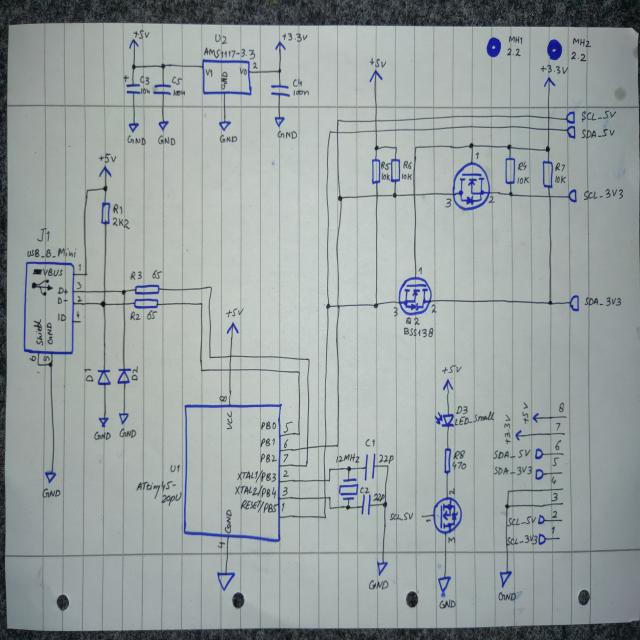capacitor: (123, 74, 141, 95), (363, 452, 376, 481), (270, 83, 291, 98), (361, 493, 372, 516), (153, 84, 172, 95)
crossover: (227, 352, 234, 361), (228, 366, 235, 374), (121, 301, 128, 308), (546, 113, 552, 121), (335, 302, 341, 310), (412, 191, 418, 199), (374, 192, 380, 200), (102, 288, 108, 295), (373, 118, 379, 124), (373, 128, 379, 134), (322, 443, 328, 449), (546, 126, 551, 133), (305, 445, 310, 451), (322, 478, 327, 483), (336, 130, 340, 136), (323, 494, 327, 500), (548, 194, 552, 200)
diode: (434, 410, 454, 428), (96, 368, 112, 386), (117, 367, 132, 385)
ground: (216, 570, 236, 592), (437, 574, 451, 596), (499, 569, 513, 588), (376, 560, 388, 576), (118, 412, 129, 426), (219, 120, 231, 132), (158, 120, 170, 132), (98, 416, 110, 428), (274, 116, 285, 128), (128, 122, 140, 133)
junction: (99, 300, 107, 310), (544, 144, 552, 154), (101, 183, 109, 193), (372, 143, 380, 152), (506, 142, 513, 152), (344, 503, 352, 511), (468, 141, 475, 150), (392, 190, 398, 200), (373, 300, 379, 310), (160, 61, 166, 70), (337, 194, 343, 203), (325, 302, 331, 311), (508, 189, 514, 198), (413, 143, 419, 152), (393, 143, 399, 152), (83, 270, 89, 279), (130, 62, 136, 70), (547, 298, 553, 306), (121, 288, 127, 296), (199, 366, 205, 374), (303, 461, 309, 469), (207, 354, 213, 362), (84, 187, 90, 194), (334, 442, 340, 449), (382, 501, 388, 508), (48, 361, 54, 368), (296, 368, 301, 376), (208, 284, 213, 292), (199, 300, 204, 308), (346, 466, 352, 472), (306, 356, 311, 363), (504, 502, 509, 509), (336, 118, 341, 124), (328, 130, 333, 136), (506, 488, 511, 494), (297, 431, 302, 436), (323, 514, 327, 520), (278, 68, 282, 74), (36, 362, 40, 368), (328, 495, 332, 500), (327, 478, 331, 483), (328, 467, 332, 472), (328, 506, 332, 510), (386, 464, 390, 468)
resistor: (504, 156, 516, 185), (542, 160, 554, 189), (134, 283, 160, 296), (371, 158, 382, 185), (133, 298, 159, 309), (390, 158, 401, 183), (100, 200, 110, 226), (444, 447, 452, 474)
source: (43, 470, 58, 484), (99, 164, 112, 180), (369, 69, 383, 83), (226, 321, 239, 335), (542, 76, 556, 88), (442, 378, 454, 391), (128, 37, 138, 51), (275, 40, 286, 51), (531, 411, 539, 424)
terminal: (569, 294, 580, 312), (567, 188, 578, 203), (534, 468, 545, 481), (566, 111, 576, 124), (567, 125, 576, 139), (534, 448, 543, 460), (514, 429, 522, 441), (538, 533, 546, 545), (537, 514, 545, 525), (560, 470, 564, 475), (560, 518, 564, 522), (561, 486, 564, 491), (562, 452, 565, 456), (563, 432, 566, 436), (565, 415, 568, 419), (558, 536, 560, 540), (562, 501, 564, 505)
text: (135, 478, 178, 499), (232, 482, 280, 500), (203, 46, 256, 60), (235, 468, 279, 483), (454, 410, 495, 426), (27, 246, 76, 259), (582, 187, 624, 201), (240, 499, 278, 514), (493, 464, 533, 476), (583, 295, 622, 307), (492, 448, 530, 460), (581, 109, 616, 121), (581, 127, 615, 139), (507, 533, 538, 546), (403, 326, 434, 338), (335, 451, 361, 465), (506, 515, 536, 527), (160, 490, 182, 506), (33, 318, 43, 347), (282, 32, 308, 43), (540, 64, 568, 74), (389, 511, 414, 522), (368, 578, 389, 591), (224, 508, 234, 534), (36, 226, 51, 243), (259, 451, 277, 465), (42, 266, 63, 278), (503, 414, 511, 445), (225, 306, 244, 319), (119, 426, 138, 439), (572, 36, 592, 48), (442, 363, 462, 375), (94, 429, 112, 442), (112, 216, 130, 229), (42, 487, 61, 499), (157, 134, 176, 146), (259, 436, 276, 449), (97, 153, 117, 164), (521, 400, 530, 424), (369, 56, 387, 68), (127, 135, 146, 146), (261, 420, 277, 433), (225, 409, 234, 432), (277, 130, 297, 140), (132, 29, 150, 40), (219, 134, 238, 144), (498, 591, 517, 601), (378, 452, 395, 463), (439, 598, 456, 609), (570, 51, 586, 62), (46, 321, 53, 346), (130, 364, 139, 382), (220, 70, 228, 90), (506, 48, 522, 58), (215, 33, 228, 45), (129, 269, 142, 281), (168, 462, 181, 474), (282, 421, 294, 434), (452, 449, 466, 460), (84, 367, 94, 382), (508, 35, 523, 45), (406, 316, 420, 326), (455, 404, 469, 414), (452, 460, 466, 470), (146, 309, 158, 320), (113, 203, 123, 216), (293, 89, 309, 97), (516, 176, 530, 185), (373, 492, 384, 503), (152, 269, 163, 280), (364, 438, 376, 448), (57, 311, 67, 323), (517, 160, 527, 172), (130, 311, 142, 321), (173, 88, 186, 97), (140, 75, 150, 86), (554, 162, 565, 172), (380, 161, 391, 171), (554, 175, 566, 184), (218, 393, 228, 403), (58, 286, 68, 296), (172, 76, 182, 86), (402, 160, 412, 170), (57, 296, 68, 305), (401, 172, 412, 181), (293, 78, 302, 88), (551, 456, 560, 466), (381, 172, 390, 182), (554, 439, 561, 451), (430, 304, 438, 314), (140, 87, 150, 95), (205, 68, 213, 78), (239, 66, 247, 76), (444, 198, 452, 208), (550, 492, 558, 502), (360, 486, 370, 494), (558, 401, 564, 414), (282, 452, 289, 463), (555, 421, 562, 432), (282, 469, 290, 478), (76, 280, 83, 290), (217, 540, 224, 550), (392, 306, 399, 316), (283, 438, 289, 449), (448, 536, 456, 544), (28, 354, 36, 362), (42, 355, 51, 362), (551, 510, 558, 519), (282, 486, 288, 496), (76, 294, 83, 302), (488, 196, 495, 204), (448, 487, 455, 495), (417, 266, 423, 275), (550, 476, 556, 485), (252, 61, 258, 69), (281, 502, 285, 514), (551, 525, 555, 535), (76, 310, 80, 319), (78, 263, 82, 272), (475, 152, 479, 160), (425, 518, 431, 523)
transistor: (452, 161, 491, 211), (398, 276, 432, 316), (433, 496, 462, 534)
